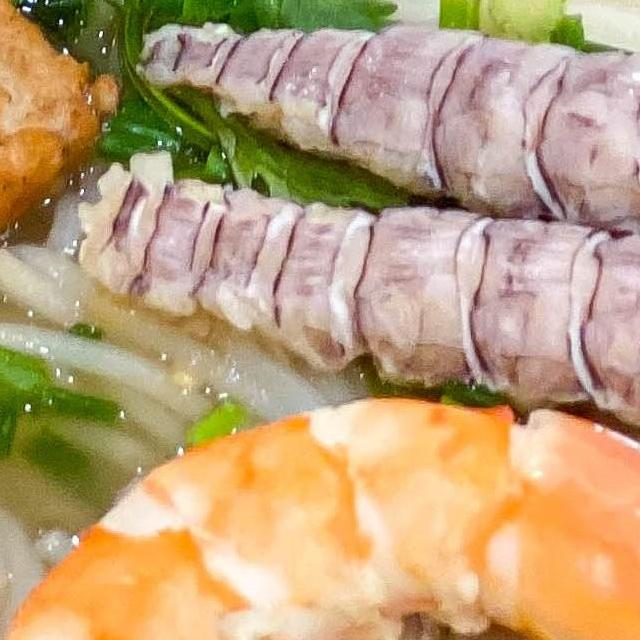bun: (0, 147, 381, 640)
bun hai san: (0, 0, 640, 640)
tom: (0, 385, 640, 640)
tom tit: (52, 141, 640, 507), (124, 3, 640, 347), (315, 423, 640, 640)
